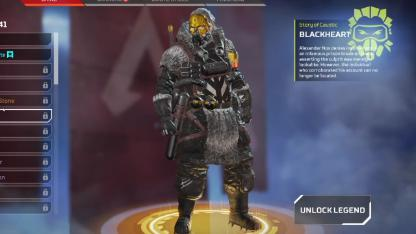Target: (156, 7, 258, 197)
